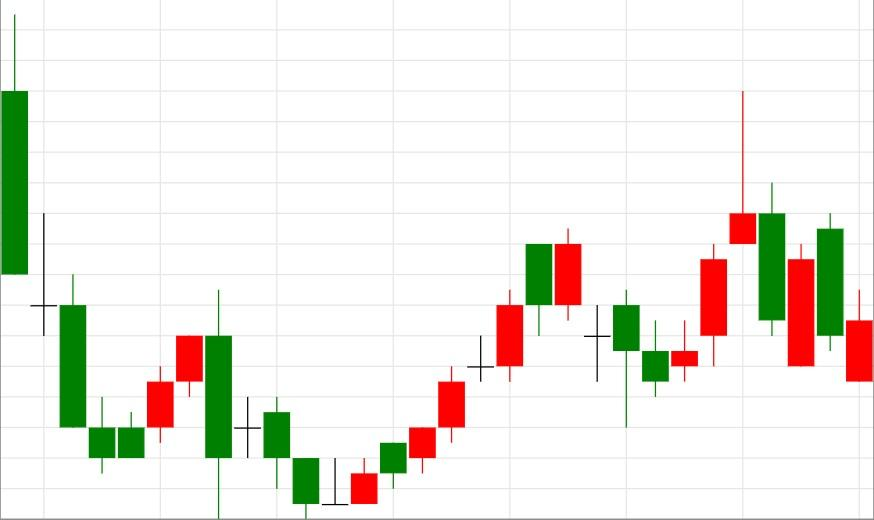bearish_engulfing_fall: (88, 290, 232, 519)
shooting_star_fall: (641, 91, 757, 397)
